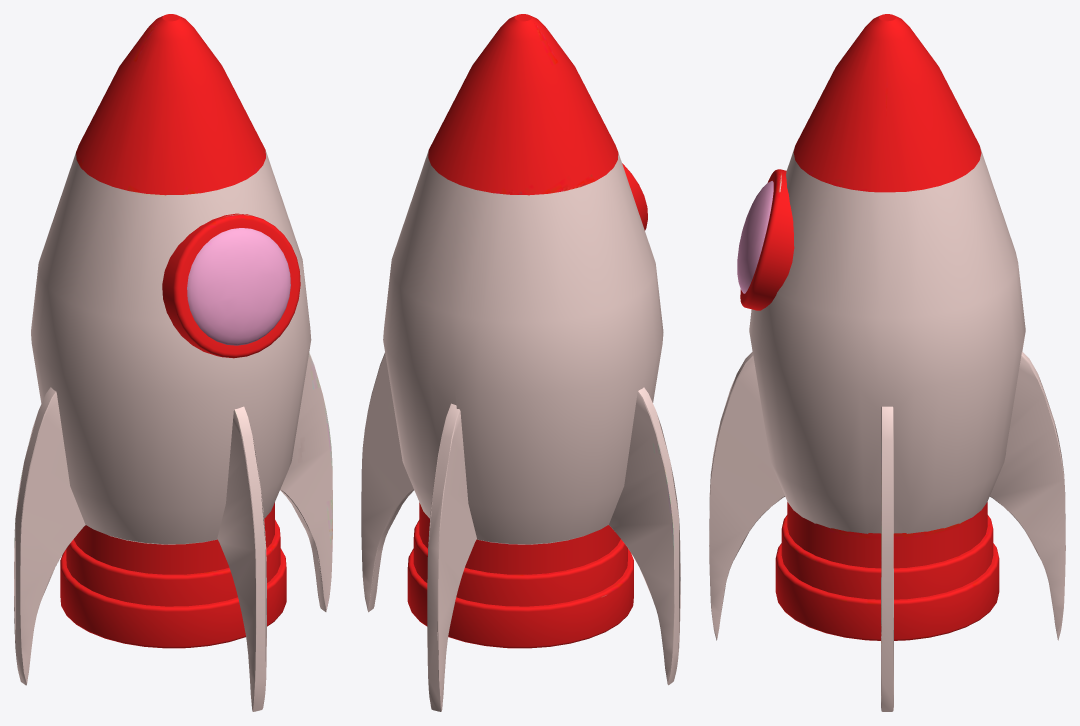
Rendered from rocket-CEp8rETc.glb.
The picture shows the model from 3 angles, left to right: view 1: azimuth 30°, elevation 25°; view 2: azimuth 150°, elevation 25°; view 3: azimuth 270°, elevation 25°; orthographic projection.
Parts seen in each view (by area): view 1: Toy Rocket; view 2: Toy Rocket; view 3: Toy Rocket.
Part boxes in pixels (<box>): Toy Rocket: <box>14,14,332,711</box>; Toy Rocket: <box>361,14,680,711</box>; Toy Rocket: <box>709,14,1065,711</box>.
Bounding box in the file's own units: 0.8099 × 1.56 × 0.8099.
1 material, 1 textured.
